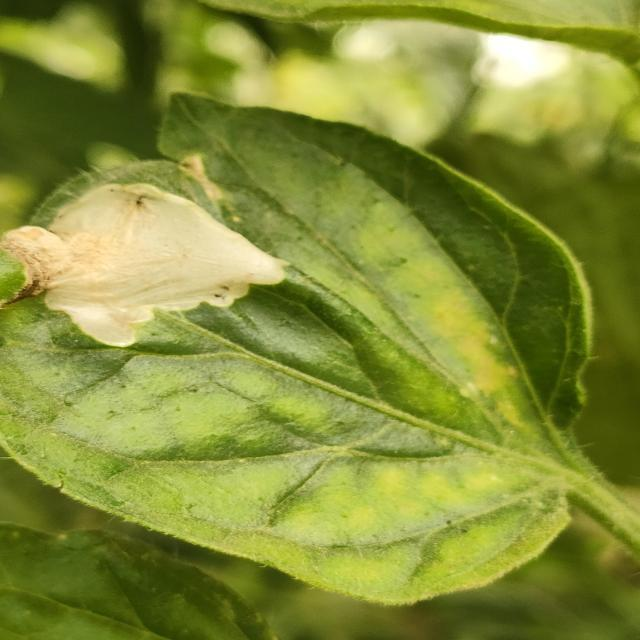Tuta absoluta: (0, 131, 295, 381)
